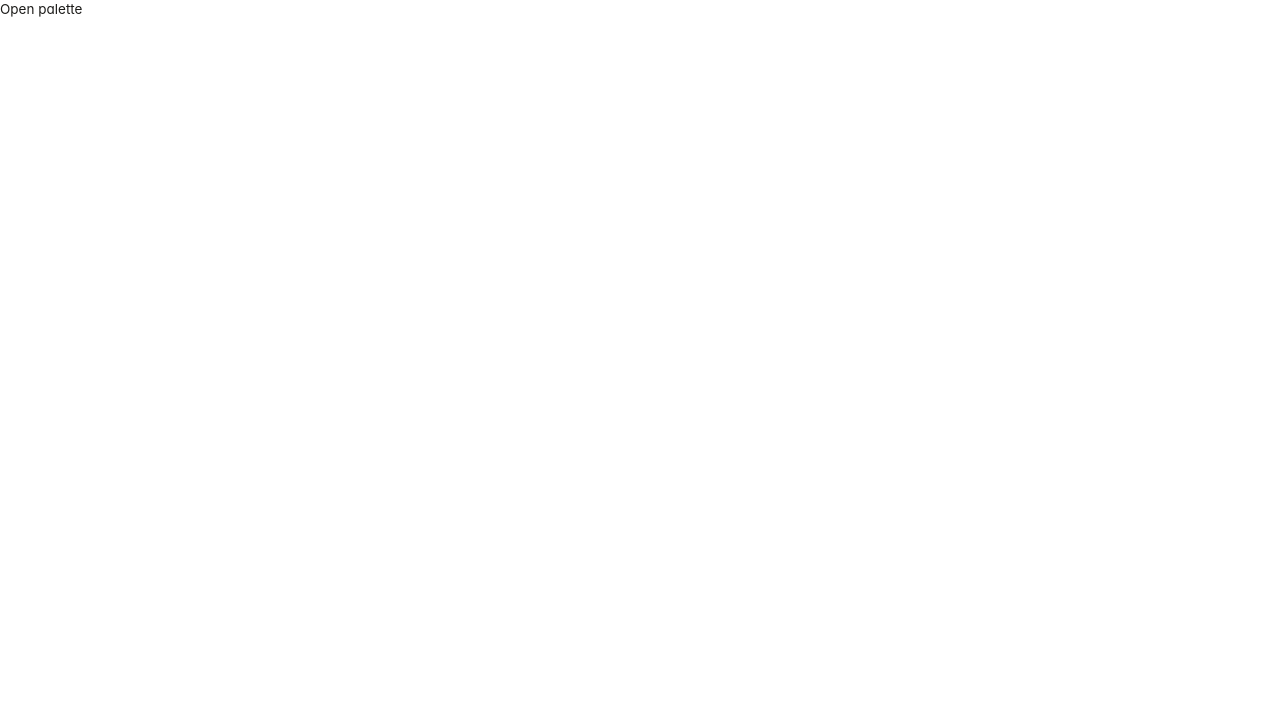
Test: CommandPalette › filters on label and hint, keeping sections
Press k
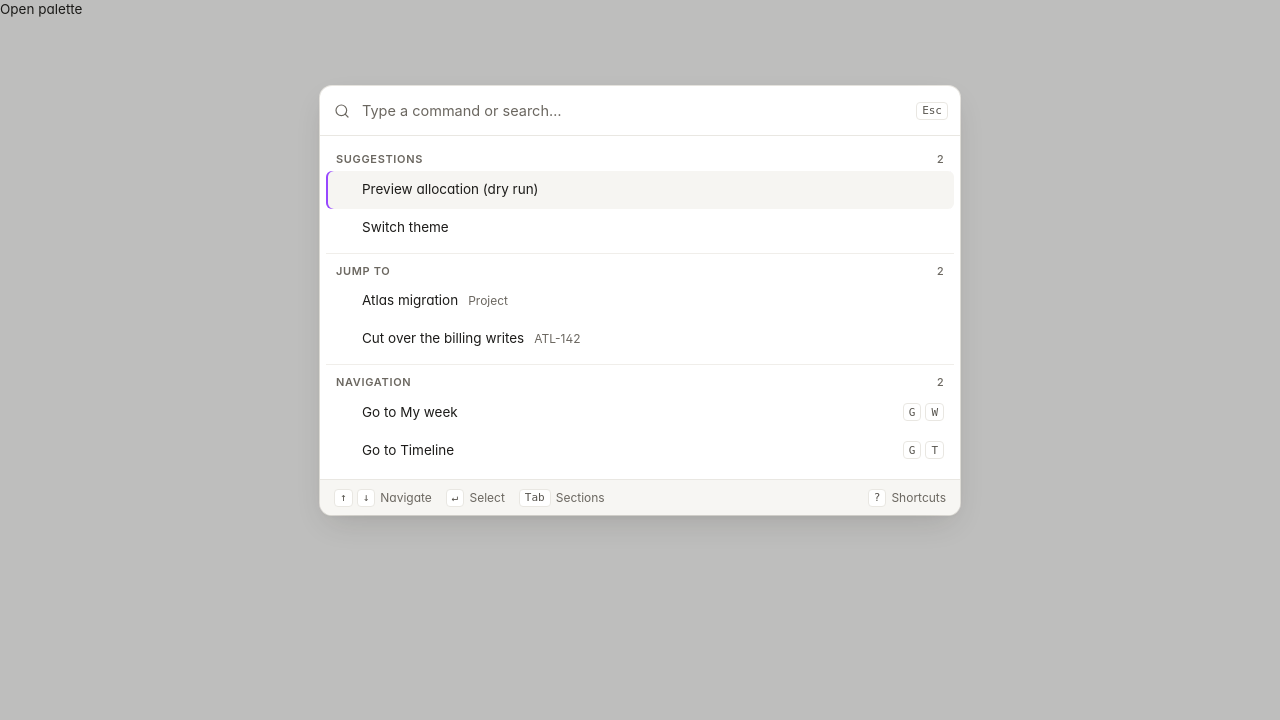
In the dropdown: (632, 111) [360,86,904,135], type "atl"
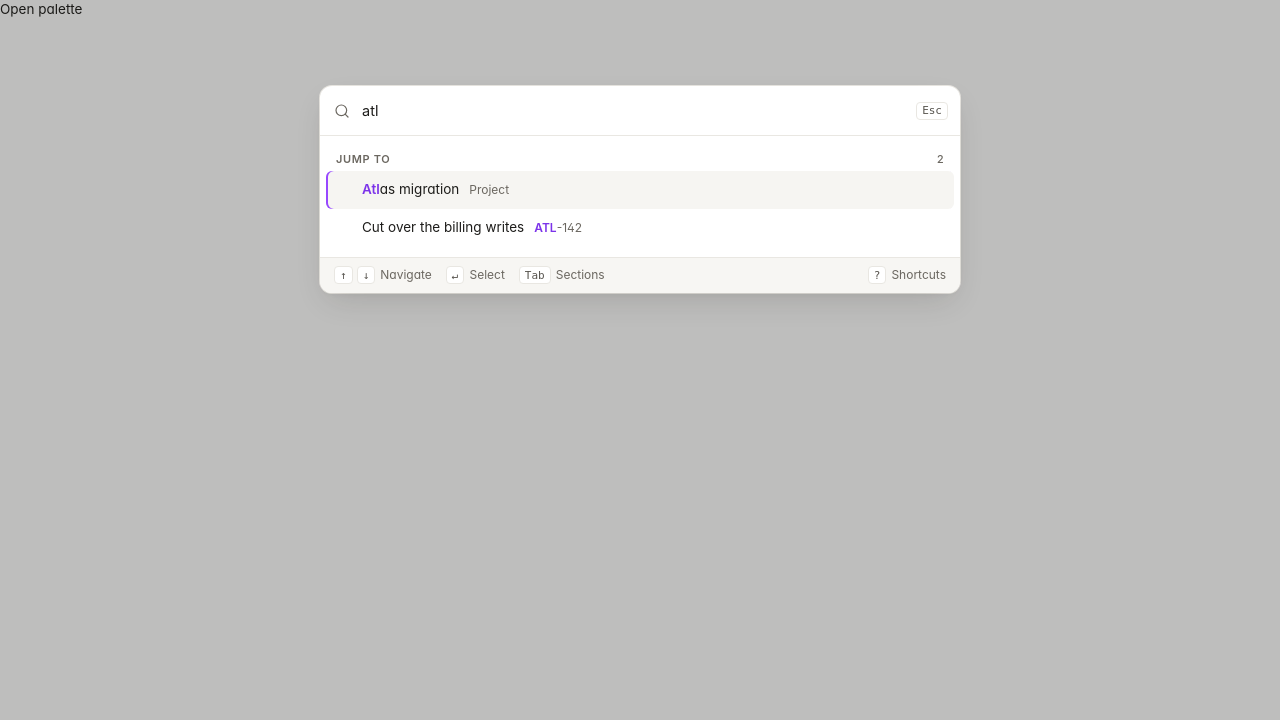
Result: the element "Jump to" is shown at [326,142,954,251]
Result: the text "Suggestions" is gone
